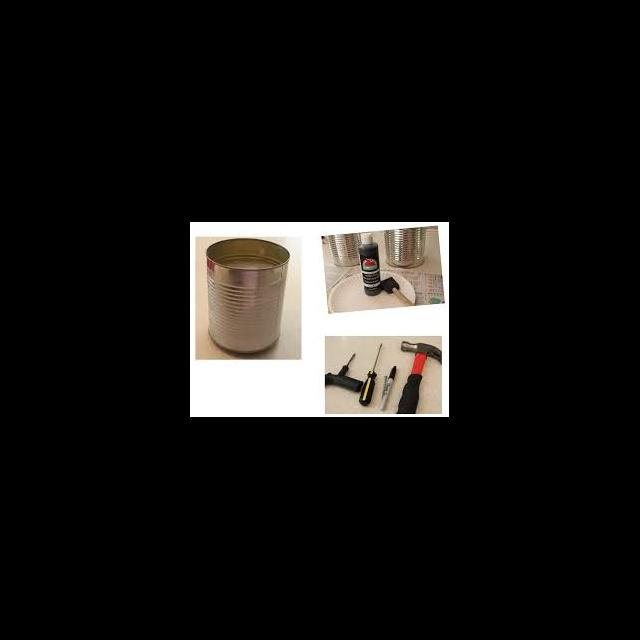metal: (205, 238, 288, 354), (384, 226, 426, 268), (328, 232, 360, 266), (401, 340, 442, 364), (372, 342, 382, 370), (348, 352, 356, 364)
